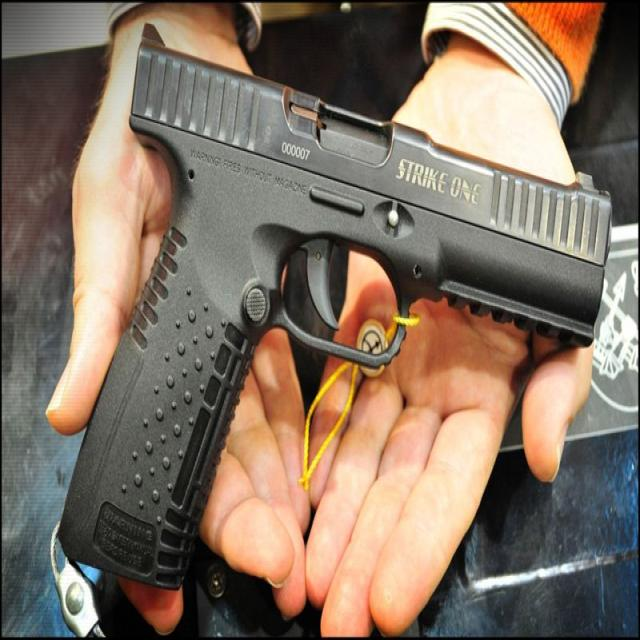pistol: (59, 21, 616, 590)
